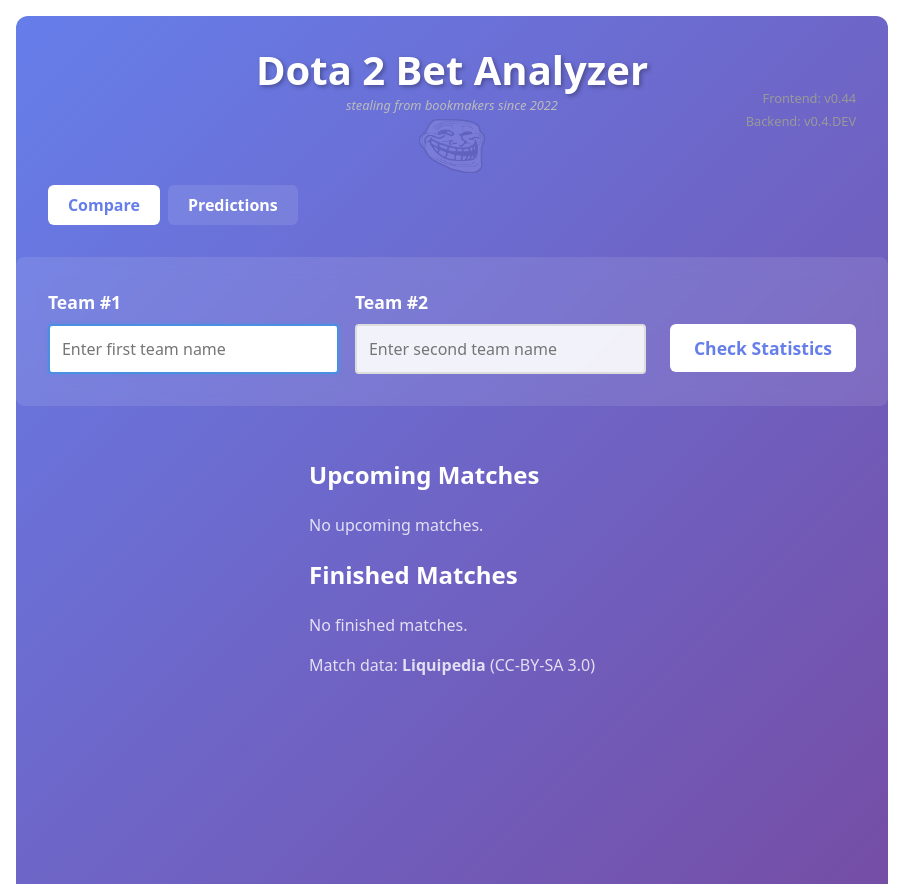
Test: App Component › Input Validation › should show error when submitting with empty teams
The width and height of the screenshot is (905, 884).
Click the button "Check Statistics": (763, 347) x1=670 y1=323 x2=856 y2=371
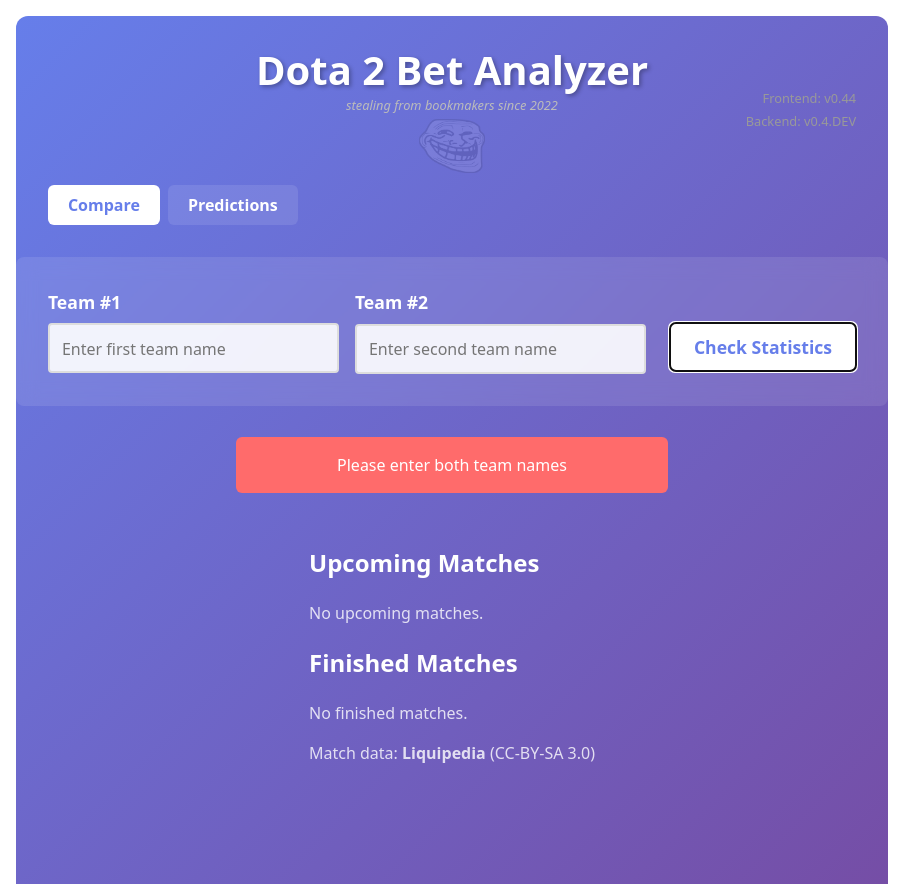
Result: the text "Please enter both team names" is shown at x1=236 y1=437 x2=668 y2=493
